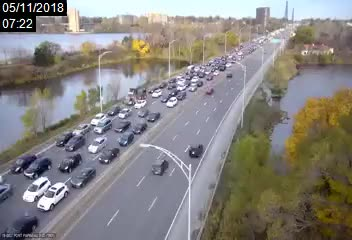personal_car: (2, 210, 39, 240), (36, 182, 69, 213), (22, 177, 50, 201), (24, 157, 53, 178), (70, 166, 96, 189), (59, 153, 83, 175), (12, 154, 37, 175), (98, 147, 119, 164), (151, 157, 169, 176), (87, 135, 107, 152), (64, 135, 85, 151), (94, 118, 112, 134), (186, 143, 203, 158), (74, 122, 90, 137), (57, 132, 73, 146), (131, 121, 146, 135), (114, 120, 130, 132), (90, 113, 106, 125), (146, 110, 160, 123), (117, 106, 130, 119), (165, 97, 179, 109), (138, 106, 150, 118), (108, 105, 118, 116), (176, 75, 187, 85), (176, 92, 187, 101), (135, 99, 146, 108), (188, 82, 197, 92), (159, 93, 169, 102), (151, 89, 161, 98), (177, 83, 186, 90), (158, 81, 167, 88), (167, 83, 176, 89), (196, 80, 203, 87), (191, 76, 198, 82)
truck: (125, 88, 148, 105)
